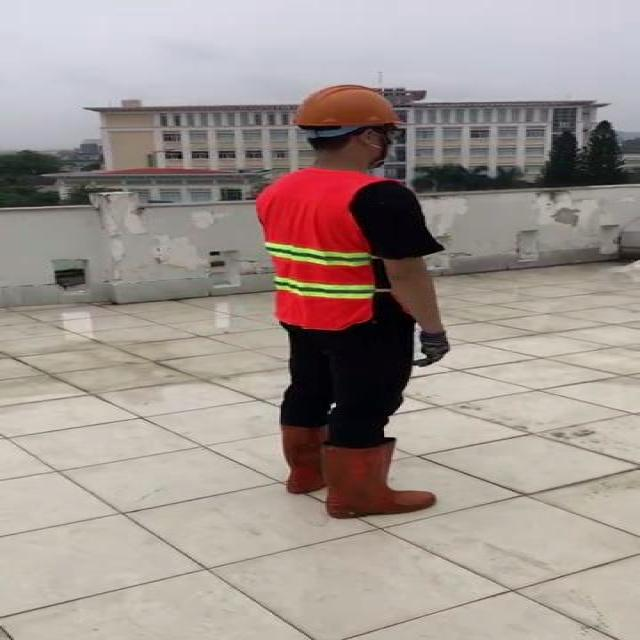boots: (320, 439, 437, 518), (278, 420, 328, 493)
hand_glove: (414, 327, 454, 369)
head_helmet: (287, 78, 406, 134)
person: (237, 75, 456, 528)
vest: (252, 169, 377, 330)
